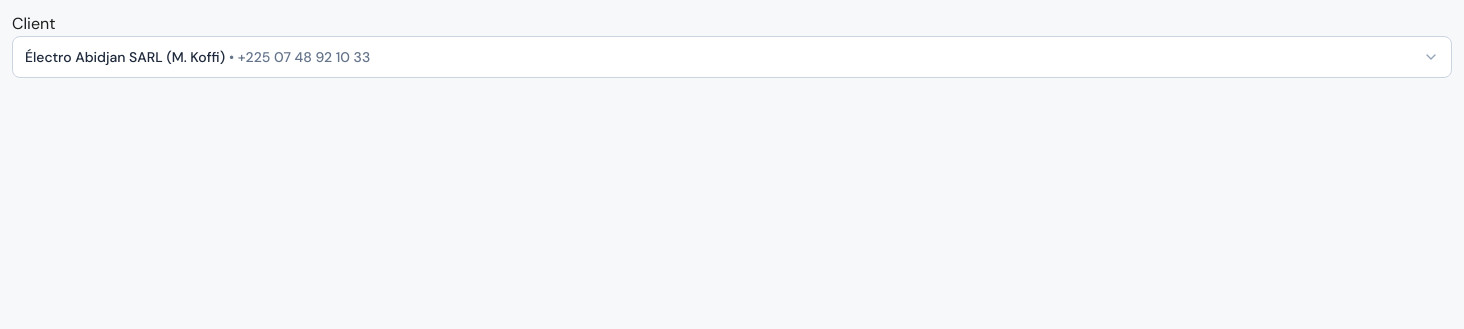
Test case: SearchableSelect › affiche un message quand rien ne correspond, et Échap ferme la liste
Click the button named "Client" at [125, 57], box left=12, top=36, right=1452, bottom=78
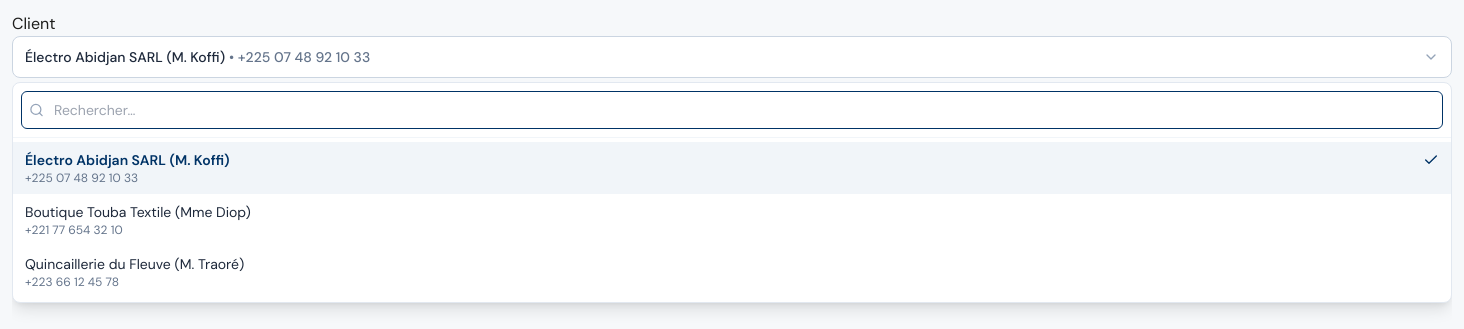
Type keys "zzz"
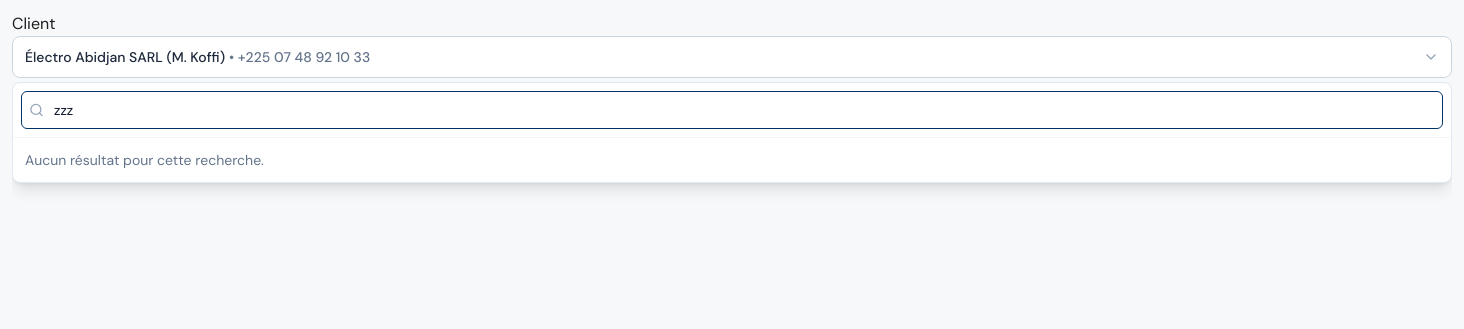
Result: the list item "Aucun résultat pour cette recherche." is shown at left=25, top=151, right=264, bottom=169
Press Escape
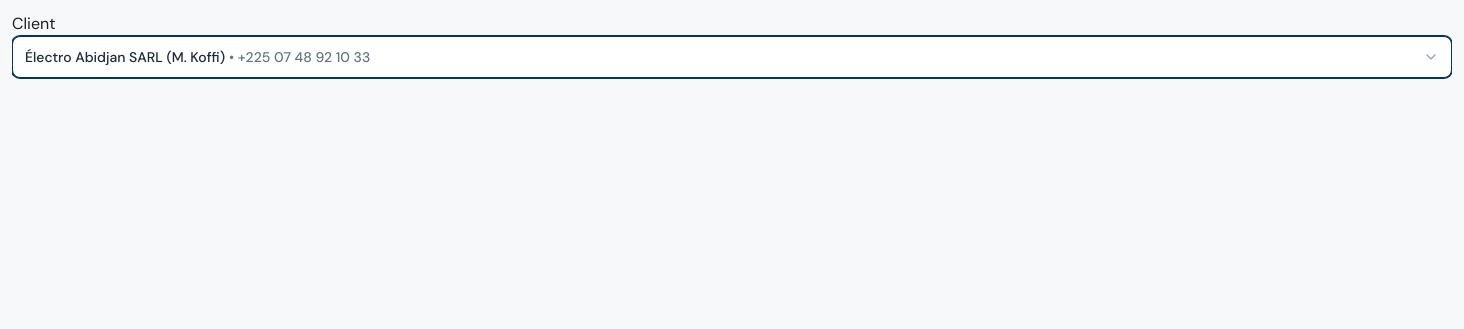
Result: the list is gone
